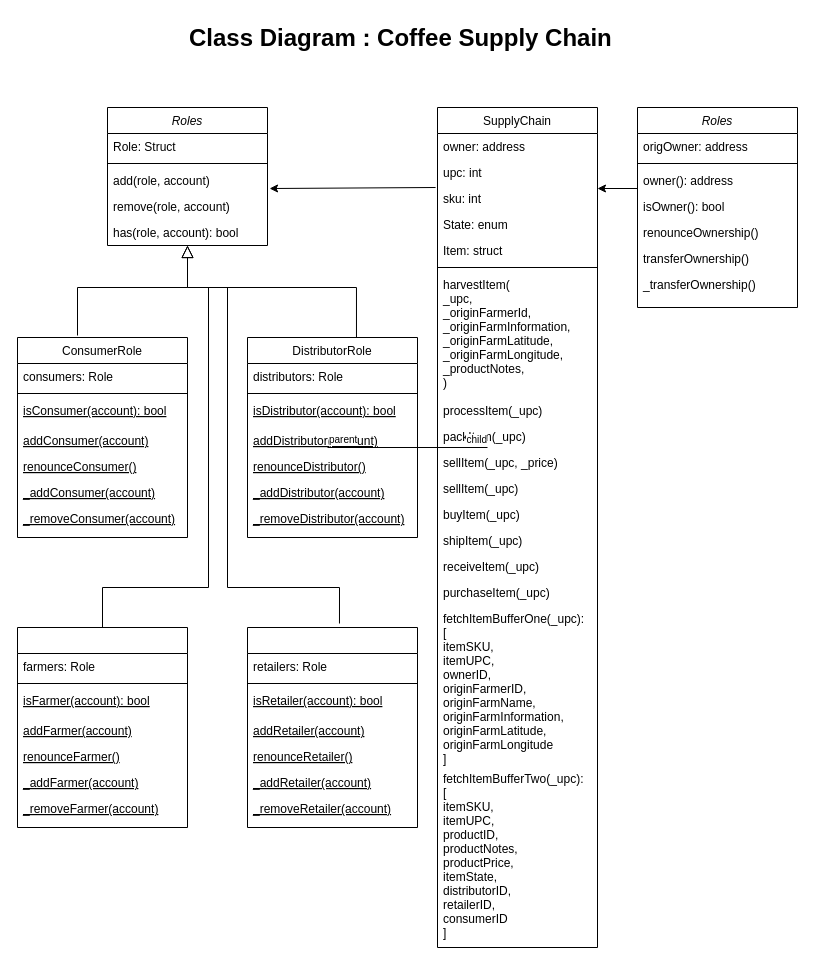
The diagram is 815 pixels wide and 967 high, and some of its shapes have lost their labels. Here are the shapes that lost their labels. From the top down, the box of each, then its label:
(16, 626, 188, 828): FarmerRole
(246, 626, 418, 828): RetailerRole
